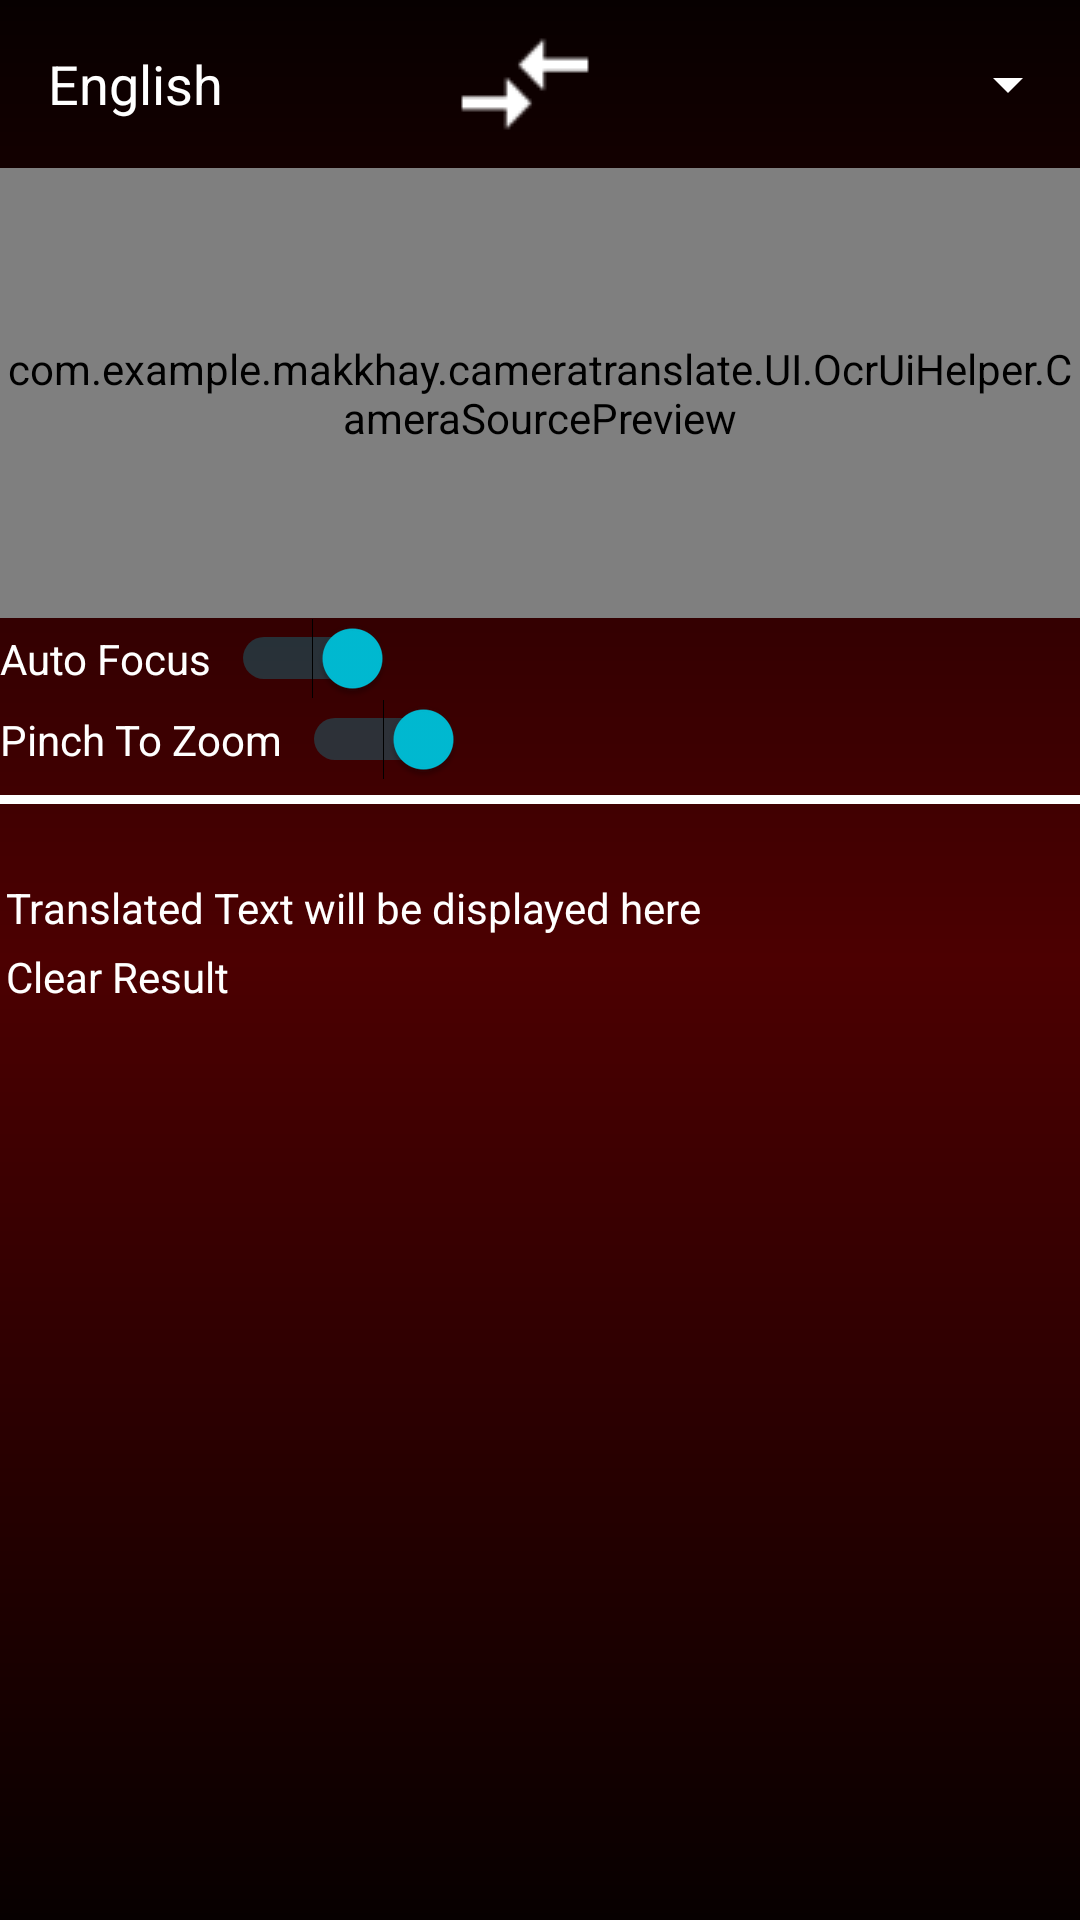

Point at icon controls on the screen. Image size 1080 × 1920, points as [x,y].
compare arrows: [525,84]
